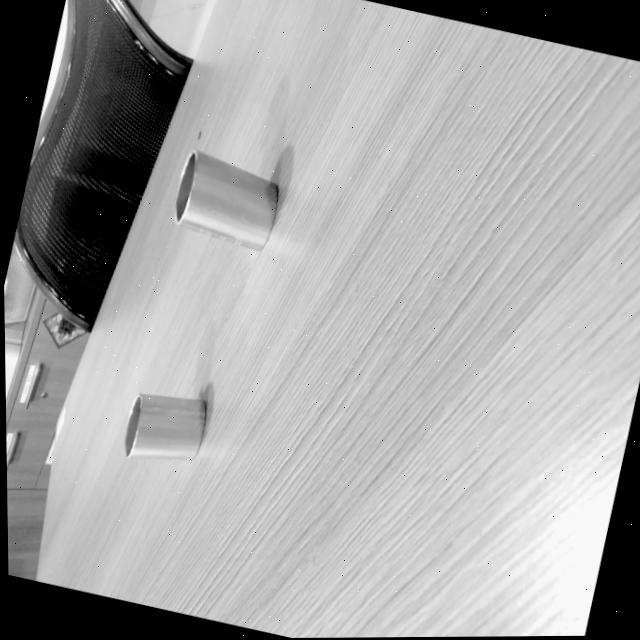Co_Lon: (164, 147, 288, 255)
Co_Nho: (123, 391, 207, 464)
